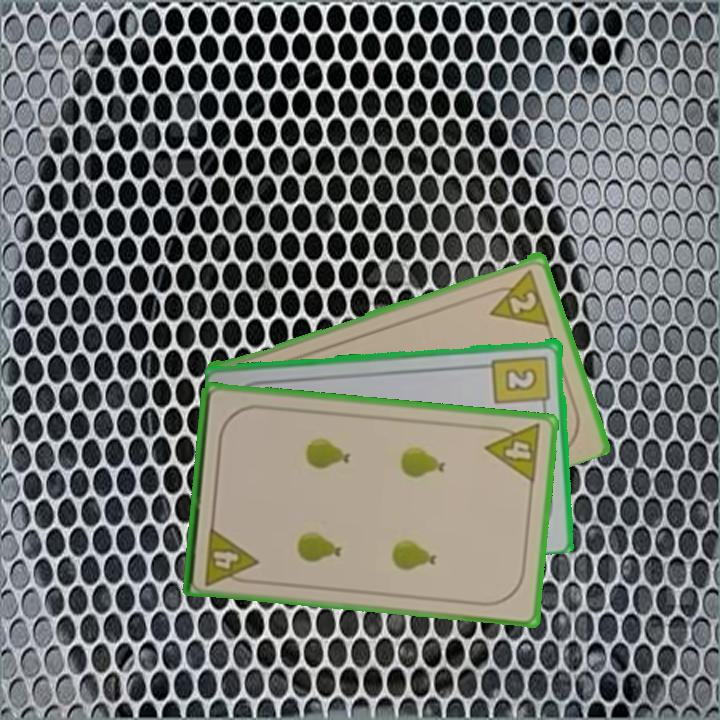2b: (489, 351, 554, 413)
2p: (481, 265, 553, 328)
4p: (482, 420, 544, 486), (201, 523, 260, 588)
